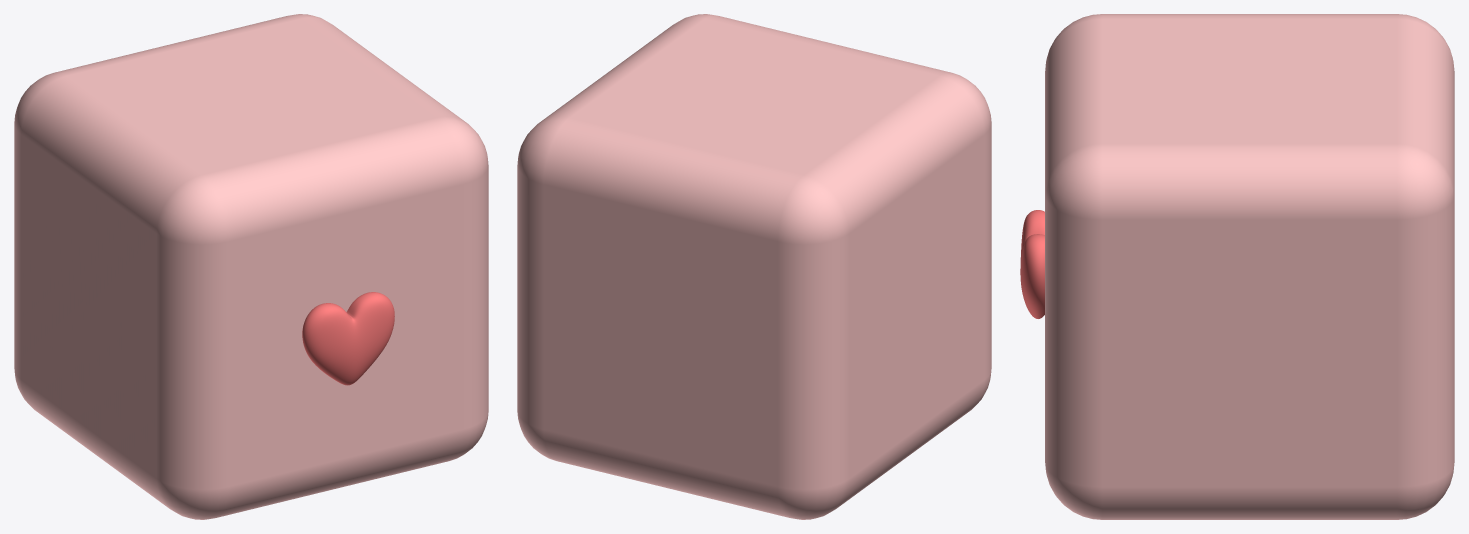
File: love-block.gltf
3 renders of one model, left to right at view 1: azimuth 30°, elevation 25°; view 2: azimuth 150°, elevation 25°; view 3: azimuth 270°, elevation 25°, orthographic. The views are drawn at different scales.
Visible parts, largest first — view 1: Box, Heart; view 2: Box; view 3: Box, Heart.
Boxes of the visible parts, x1,y1,x2,y2 form: Box: (14, 14, 488, 519); Heart: (302, 292, 394, 385); Box: (517, 14, 991, 519); Box: (1045, 14, 1454, 519); Heart: (1020, 210, 1044, 318).
Bounding box in the file's own units: 0.1 × 0.1 × 0.106.
